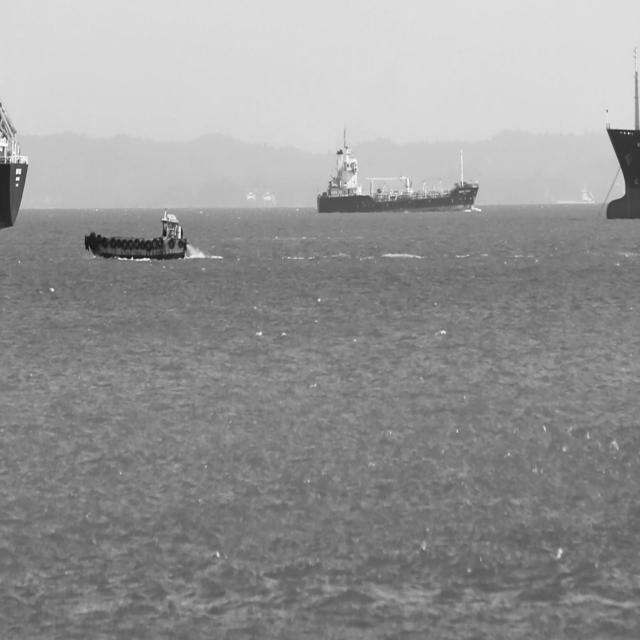ship: (317, 124, 480, 215), (607, 44, 640, 218), (83, 210, 190, 260), (0, 94, 31, 227)
